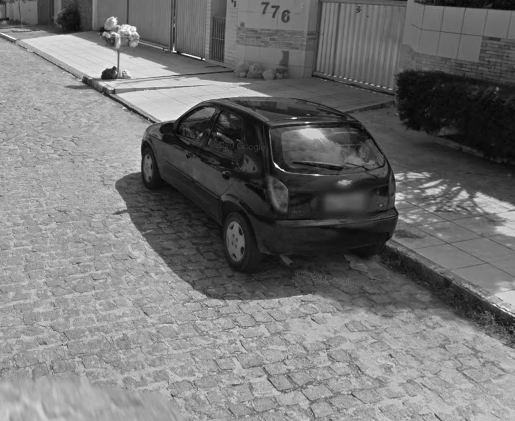car: (140, 92, 401, 272)
